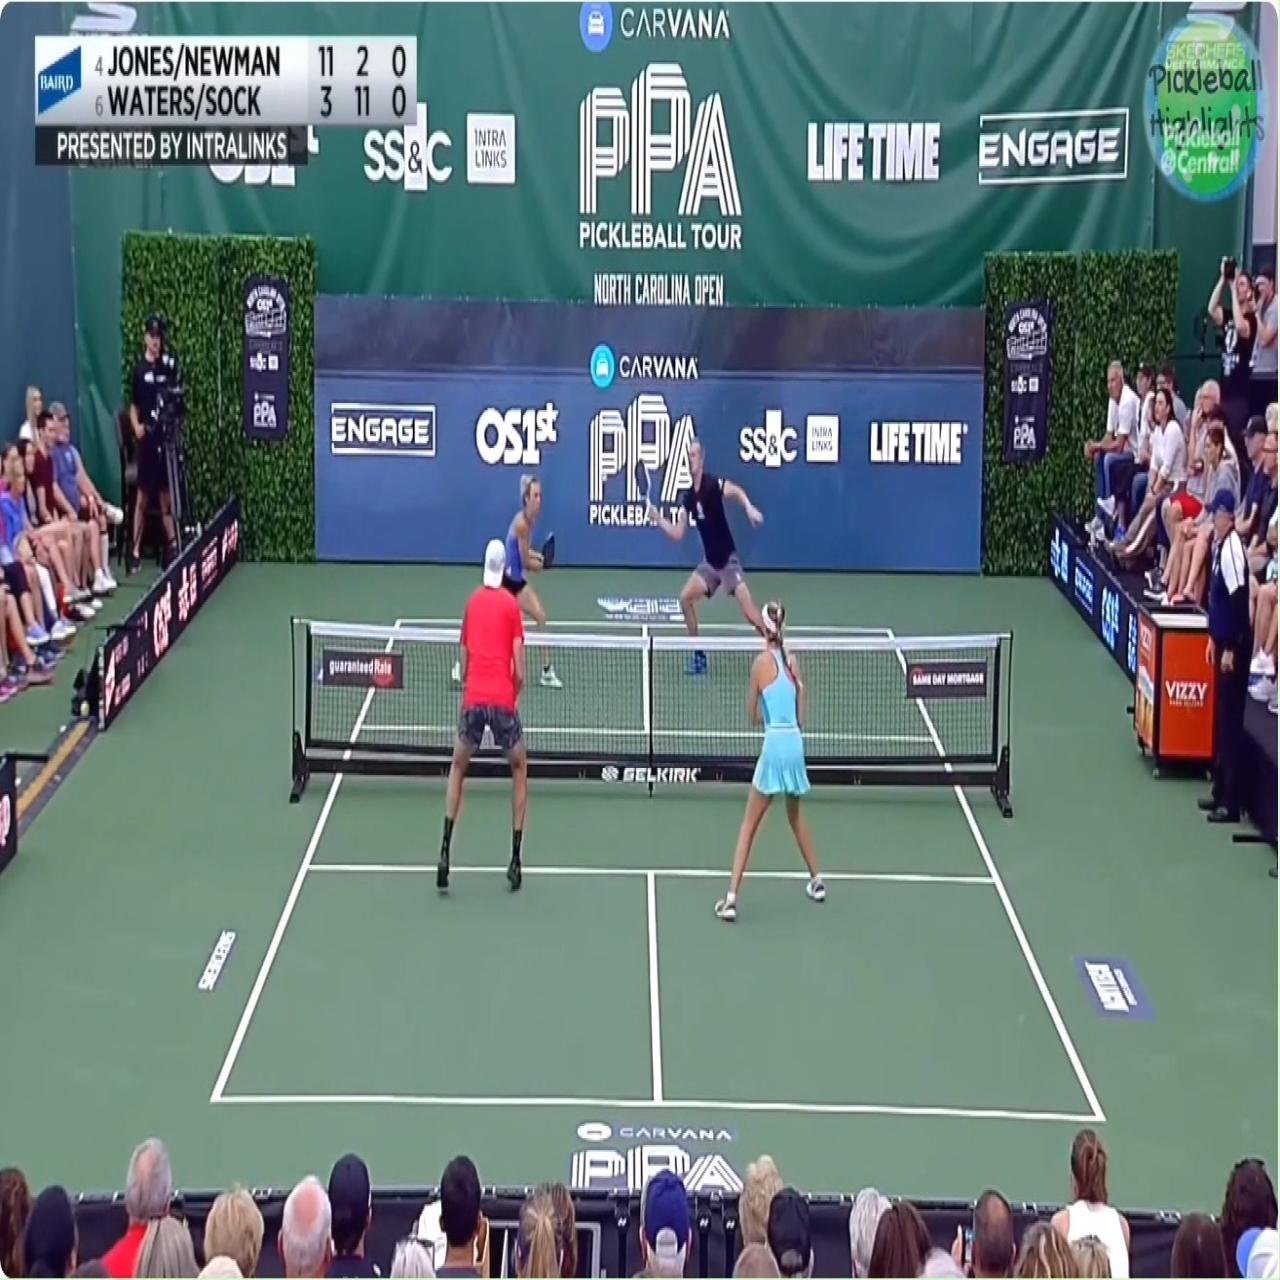pickleball: (600, 470, 608, 484)
